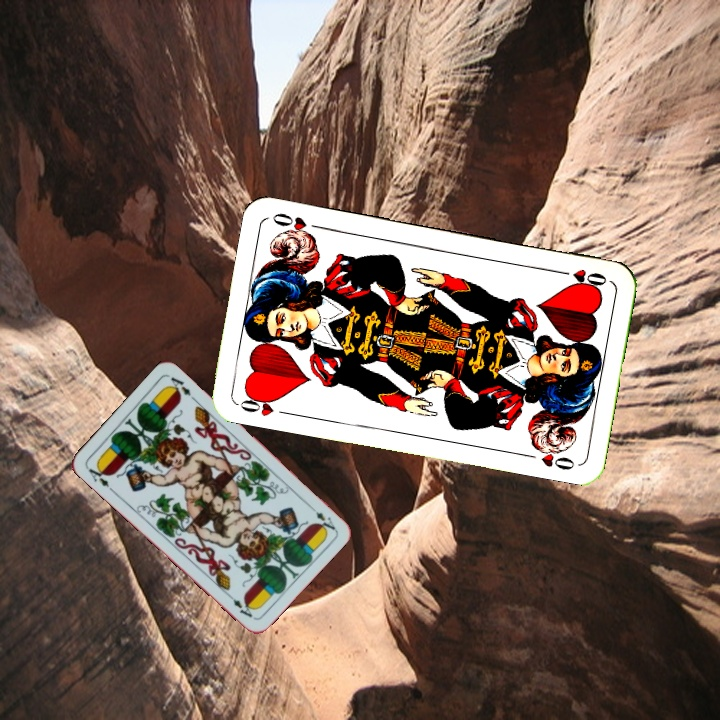EA: (305, 500, 338, 533), (83, 461, 112, 490)
HO: (234, 389, 293, 419), (552, 265, 610, 291)
